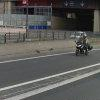Motorcycle: (64, 30, 93, 61)
